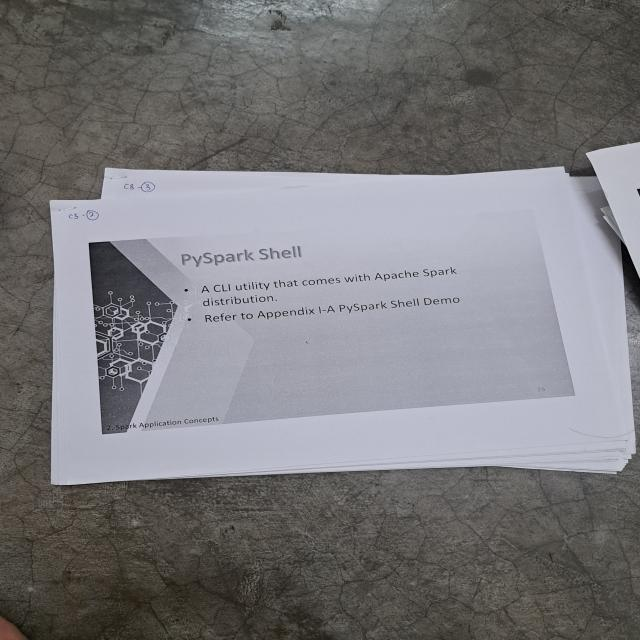paper: (48, 133, 640, 489)
